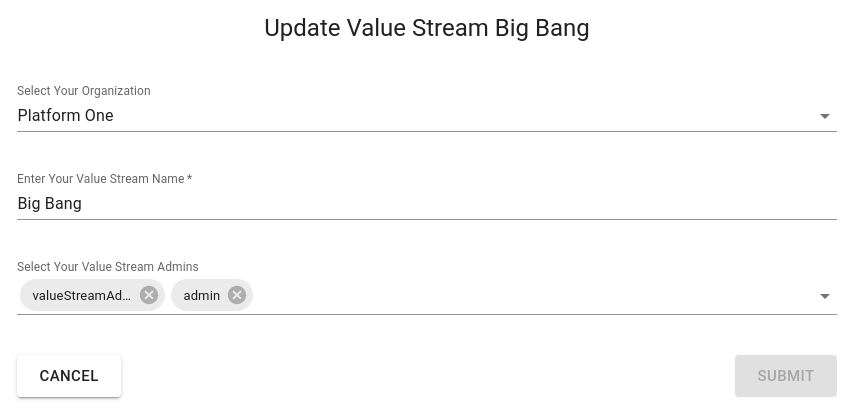
Test: Form validation › value stream name field › should allow submission if field gets updated
Type "foo bar" into the field labelled "Enter Your Value Stream Name" at (427, 204), box [17, 188, 837, 220]
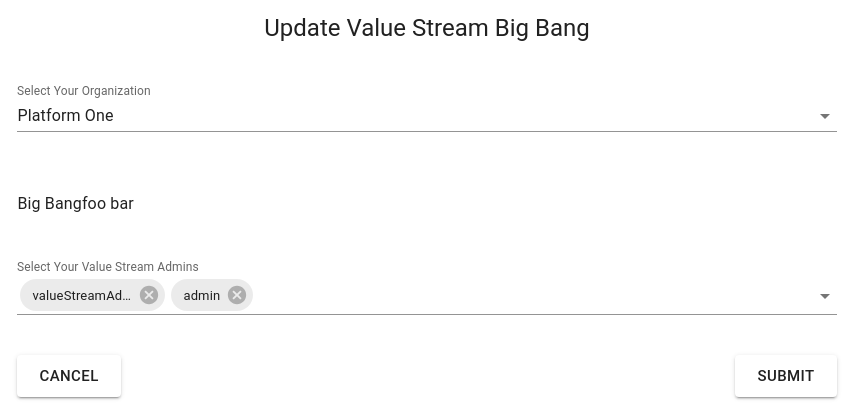
Expected: the button with aria-label "Submit Your Form" is enabled, [735, 355, 837, 397]
